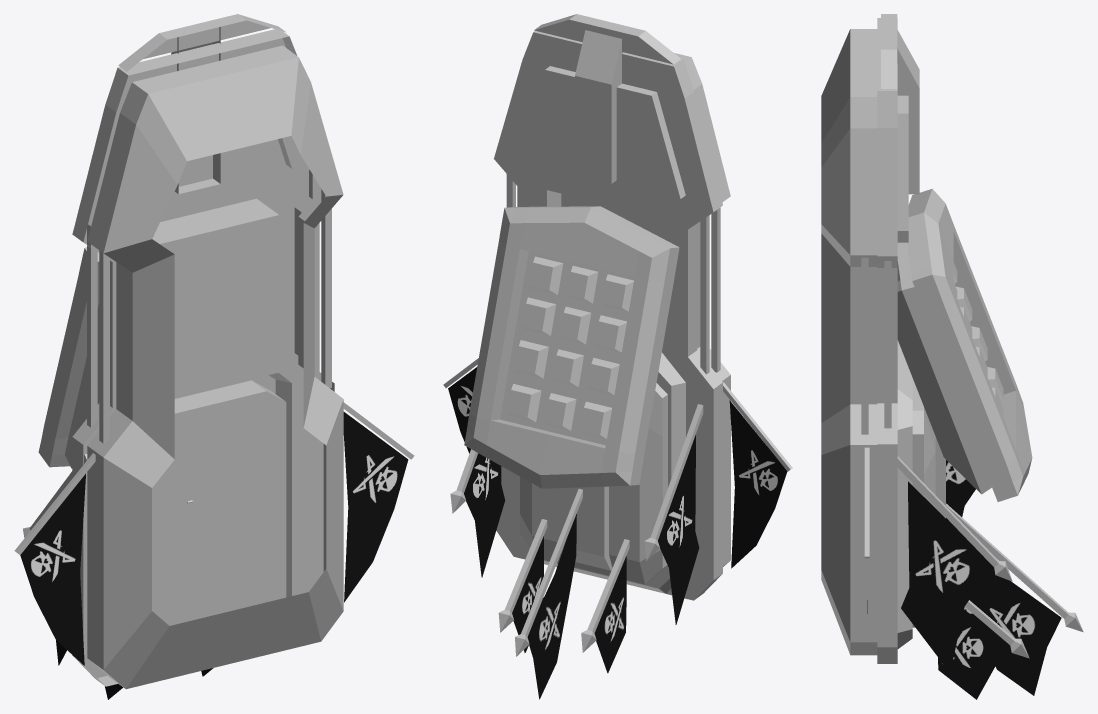
The model's file is pirate_multi_my_6.fbx.
The picture shows the model from 3 angles, left to right: view 1: azimuth 30°, elevation 25°; view 2: azimuth 150°, elevation 25°; view 3: azimuth 270°, elevation 25°; orthographic projection. The views are drawn at different scales.
Parts seen in each view (by area): view 1: Cube.360; view 2: Cube.360; view 3: Cube.360.
Boxes of the visible parts, x1,y1,x2,y2 form: Cube.360: [14, 14, 414, 699]; Cube.360: [443, 14, 792, 699]; Cube.360: [821, 14, 1083, 699].
Size of the model in its own units: 449 by 772 by 277.
